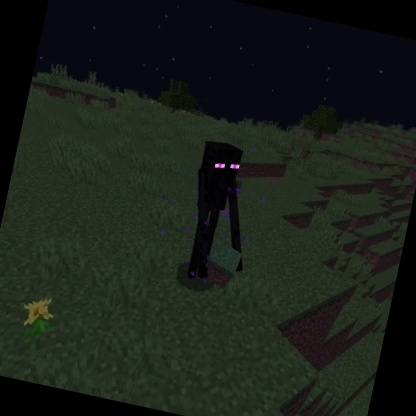enderman: (173, 135, 271, 293)
